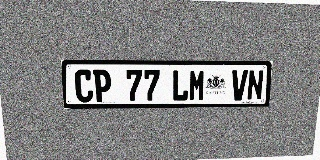7: (125, 70, 142, 102), (143, 70, 160, 102)
C: (74, 69, 93, 102)
L: (172, 70, 189, 101)
M: (188, 70, 206, 101)
N: (246, 70, 264, 100)
P: (93, 69, 112, 102)
V: (230, 70, 248, 101)
